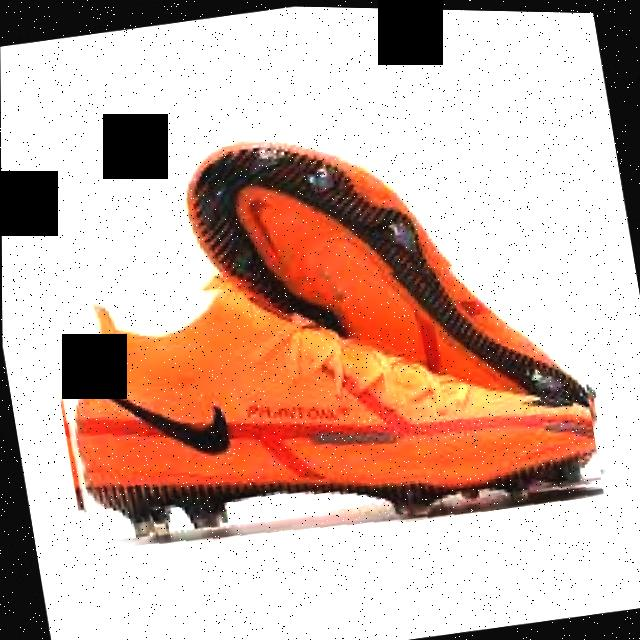shoe: (22, 87, 616, 581), (43, 224, 604, 574)
